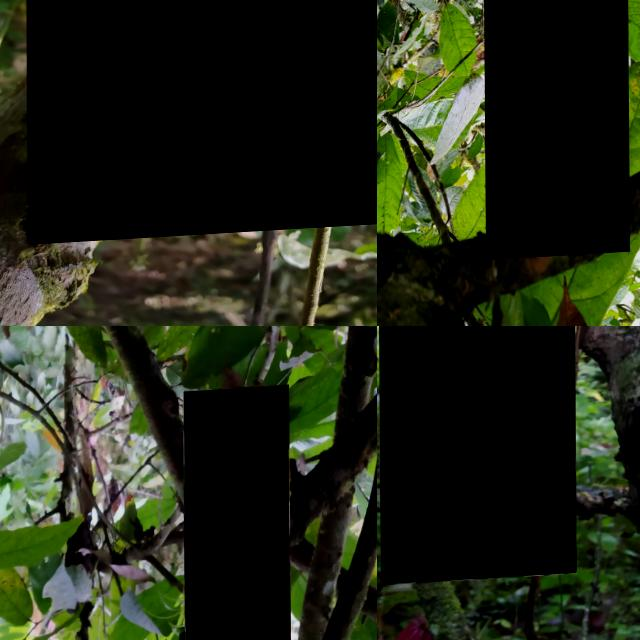Fitoftora: (481, 0, 629, 263), (182, 388, 290, 640)
Monilia: (25, 0, 377, 246), (377, 326, 576, 588)
